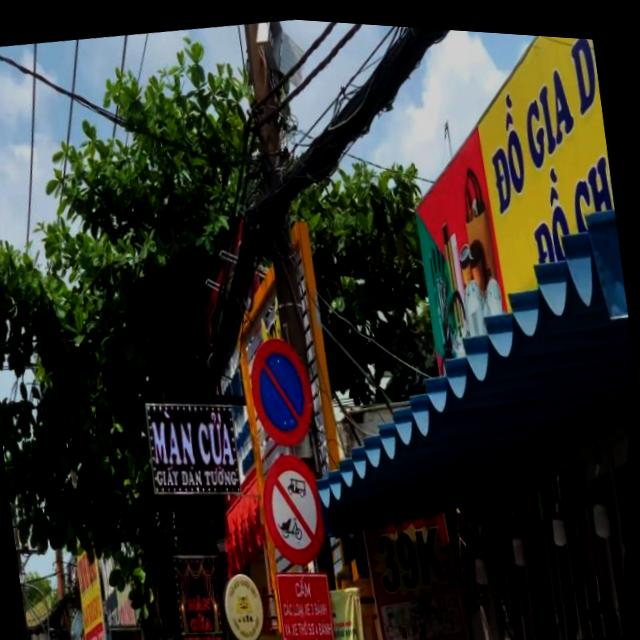Cam do xe: (244, 322, 327, 456)
